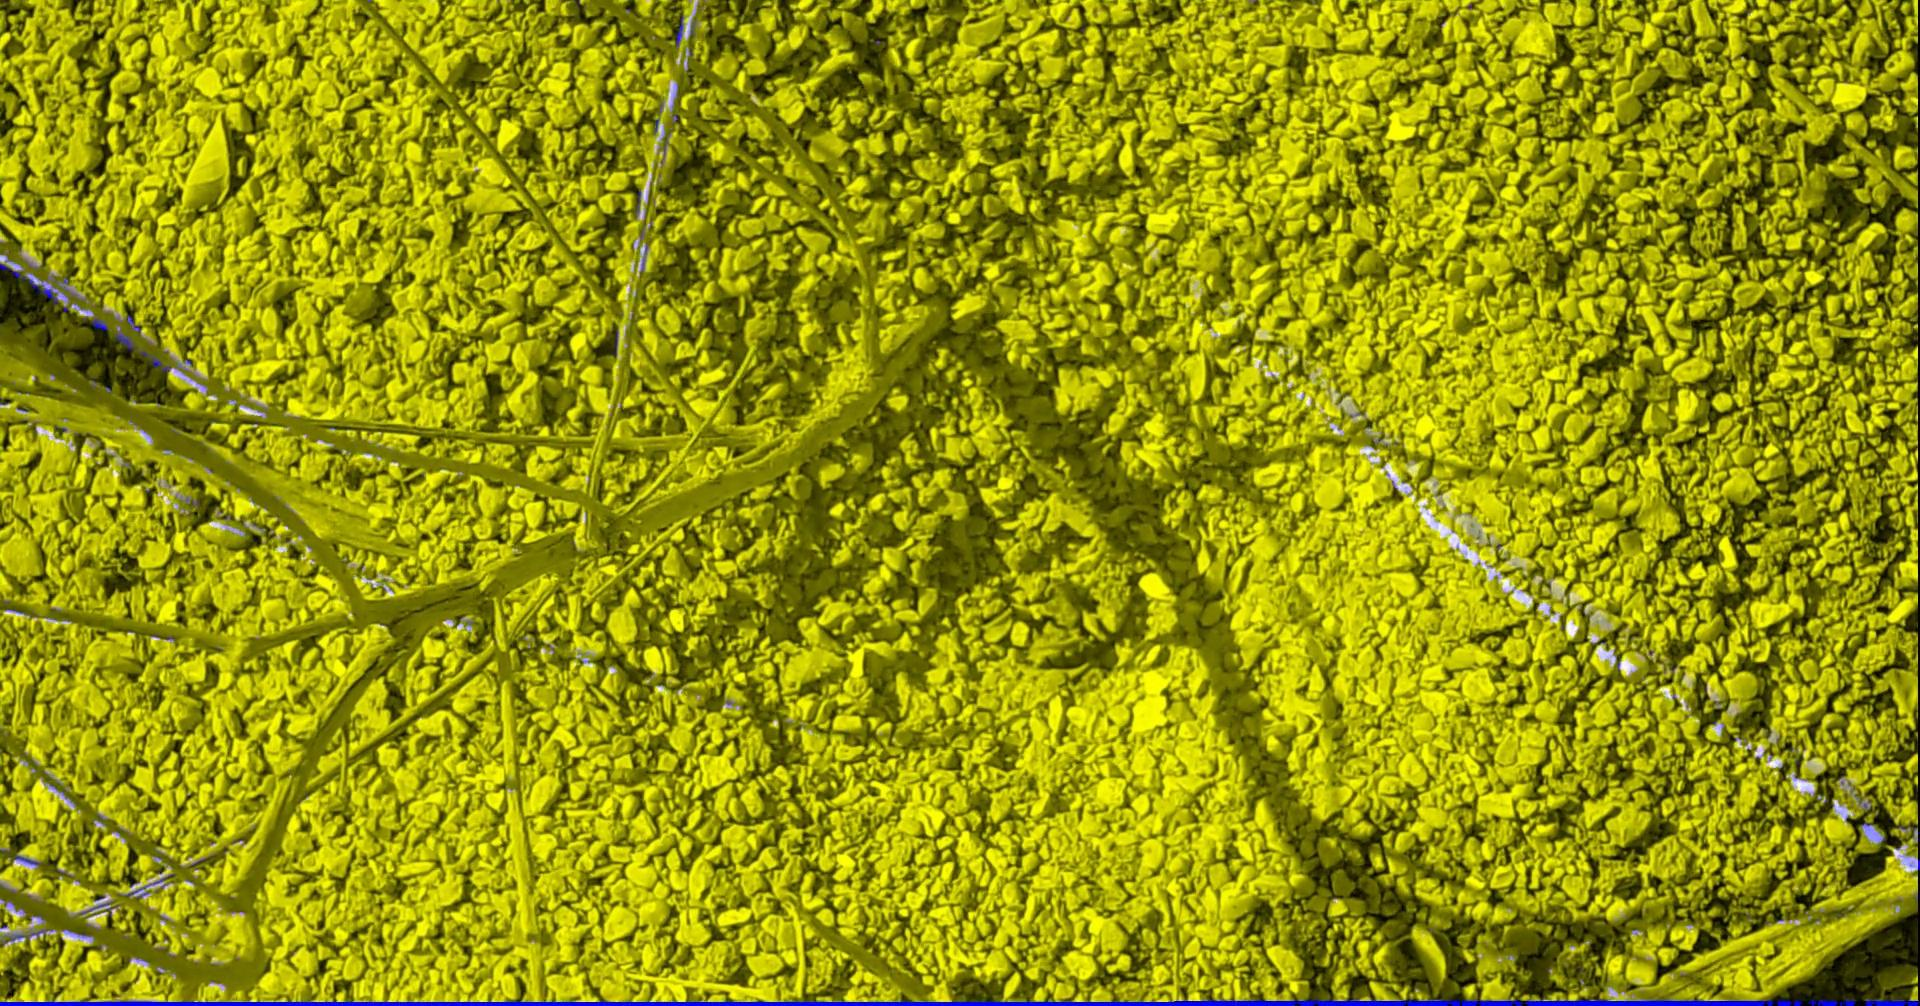ant: (1, 263, 70, 304), (1, 929, 53, 945), (141, 349, 171, 371), (117, 332, 140, 351), (1865, 998, 1920, 1005), (119, 887, 151, 897), (676, 15, 684, 47), (93, 318, 110, 330)
